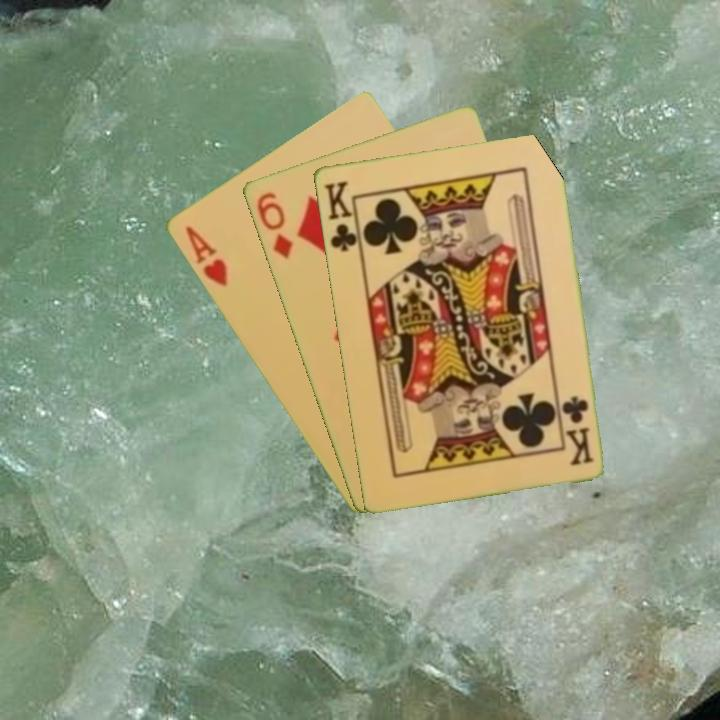6d: (253, 188, 296, 262)
Ah: (181, 222, 230, 290)
Kc: (320, 176, 363, 255), (559, 392, 596, 468)
